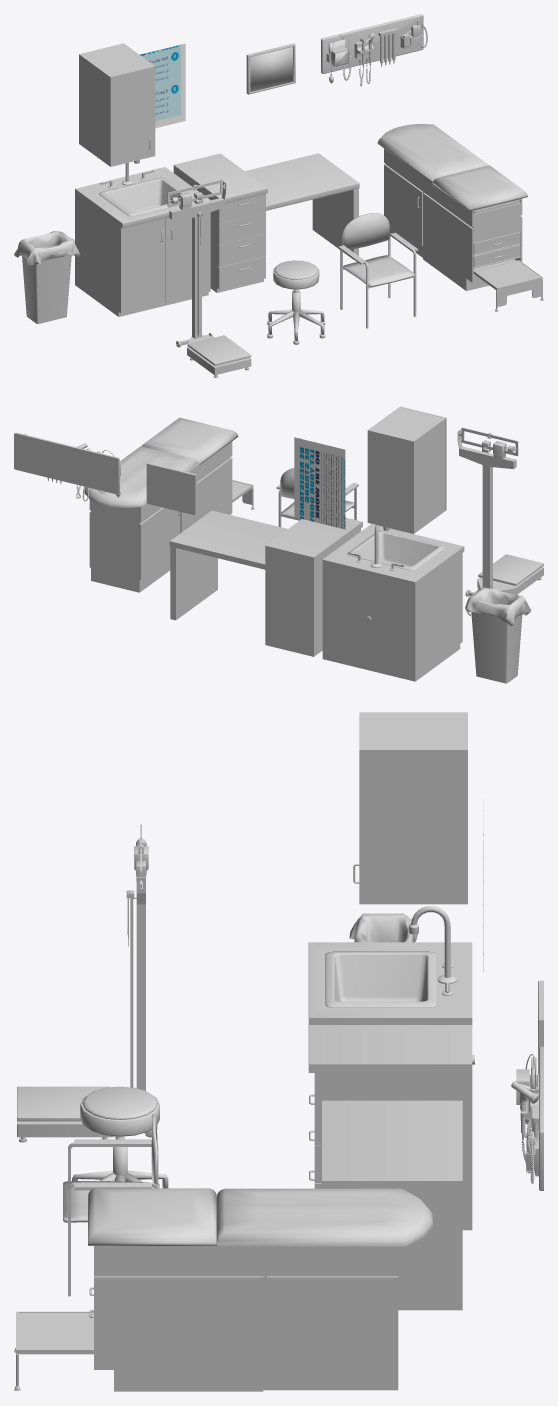
File: diagnostics.fbx
3 views of the same model, one above another, from view 1: azimuth 30°, elevation 25°; view 2: azimuth 150°, elevation 25°; view 3: azimuth 270°, elevation 25° (orthographic). The views are drawn at different scales.
Parts seen in each view (by area): view 1: Examination Table, Cabinet_MD_01_03, Door.L.003, CabinetOverhead_MD_01_02, Cabinet_Kitchen_Door.L, CabinetSide Table_MD_01_01, Back, Cabinet_Kitchen_Door.R, Trash, Chair_MD_Seat, Seat.001, Poster_01 (+23 smaller); view 2: Cabinet_MD_01_03, CabinetOverhead_MD_01_02, Examination Table, Cabinet_MD_01_01, Poster_01, Wall Board, CabinetSide Table_MD_01_01, Countertop_Sink, Trash, Scale Base, Back, Leg.008 (+11 smaller); view 3: Examination Table, CabinetOverhead_MD_01_02, CabinetSide Table_MD_01_01, Back, Countertop.003, Seat.001, Countertop_Sink, Leg.008, Sink, Cabinet_MD_01_01, Step, Scale Base (+8 smaller).
Part boxes in pixels (bbox=[...]): Examination Table: bbox=[384, 148, 522, 290]; Cabinet_MD_01_03: bbox=[75, 194, 208, 316]; Door.L.003: bbox=[109, 65, 155, 166]; CabinetOverhead_MD_01_02: bbox=[79, 43, 153, 165]; Cabinet_Kitchen_Door.L: bbox=[118, 218, 165, 313]; CabinetSide Table_MD_01_01: bbox=[245, 153, 359, 210]; Back: bbox=[377, 124, 488, 183]; Cabinet_Kitchen_Door.R: bbox=[165, 212, 210, 302]; Trash: bbox=[22, 255, 71, 323]; Chair_MD_Seat: bbox=[342, 213, 414, 286]; Seat.001: bbox=[432, 165, 527, 210]; Poster_01: bbox=[140, 43, 185, 128]; Cabinet_MD_01_03: bbox=[322, 555, 460, 681]; CabinetOverhead_MD_01_02: bbox=[367, 407, 445, 533]; Examination Table: bbox=[89, 441, 232, 592]; Cabinet_MD_01_01: bbox=[265, 530, 358, 656]; Poster_01: bbox=[294, 437, 345, 529]; Wall Board: bbox=[14, 432, 119, 494]; CabinetSide Table_MD_01_01: bbox=[169, 510, 287, 569]; Countertop_Sink: bbox=[322, 524, 464, 587]; Trash: bbox=[471, 612, 522, 683]; Scale Base: bbox=[457, 429, 543, 595]; Back: bbox=[83, 446, 199, 507]; Leg.008: bbox=[170, 546, 217, 620]; Examination Table: bbox=[94, 1246, 398, 1391]; CabinetOverhead_MD_01_02: bbox=[362, 712, 467, 904]; CabinetSide Table_MD_01_01: bbox=[321, 1100, 462, 1189]; Back: bbox=[217, 1188, 432, 1246]; Countertop.003: bbox=[308, 1025, 472, 1072]; Seat.001: bbox=[88, 1188, 216, 1245]; Countertop_Sink: bbox=[308, 942, 472, 1024]; Leg.008: bbox=[398, 1189, 462, 1310]; Sink: bbox=[325, 951, 436, 1007]; Cabinet_MD_01_01: bbox=[322, 1073, 472, 1230]; Step: bbox=[16, 1311, 93, 1354]; Scale Base: bbox=[17, 877, 145, 1137].
Bounding box in the file's own units: 651 × 319 × 385.
